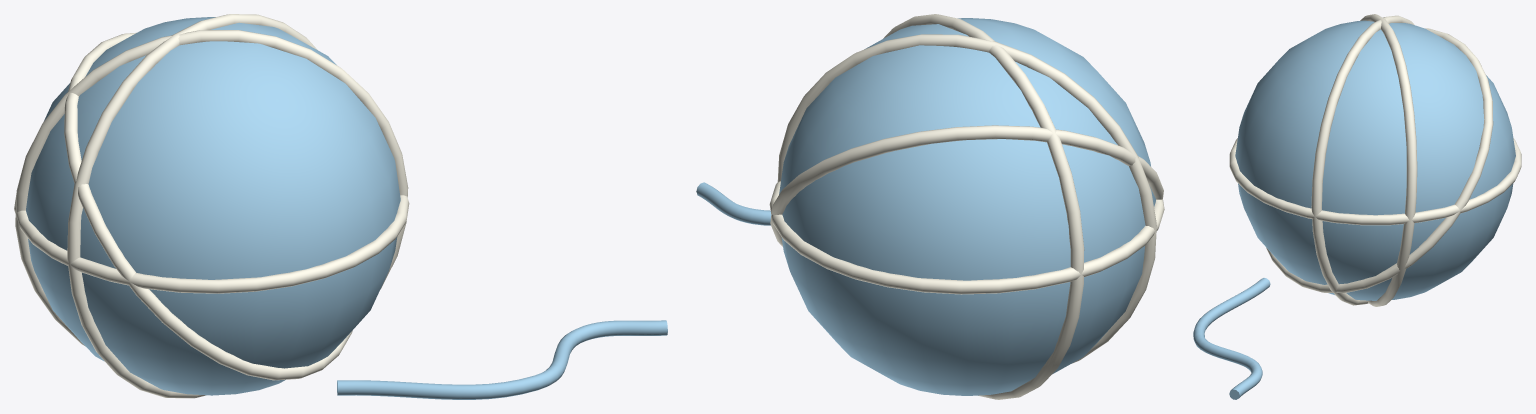
File: yarnBlue.glb
3 views of the same model, side by side, from view 1: azimuth 30°, elevation 25°; view 2: azimuth 150°, elevation 25°; view 3: azimuth 270°, elevation 25° (orthographic). The views are drawn at different scales.
Parts seen in each view (by area): view 1: Yarn ball, Yarn strand.003, Yarn strand.002, Yarn strand.001, Yarn strand, Loose yarn; view 2: Yarn ball, Yarn strand.002, Yarn strand.003, Yarn strand, Yarn strand.001, Loose yarn; view 3: Yarn ball, Yarn strand.001, Yarn strand, Yarn strand.003, Yarn strand.002, Loose yarn.
Boxes of the visible parts, box(x1,y1,x2,y2) form: Yarn ball: box(26, 17, 400, 395); Yarn strand.003: box(15, 30, 408, 346); Yarn strand.002: box(67, 14, 317, 398); Yarn strand.001: box(64, 32, 352, 380); Yarn strand: box(14, 193, 409, 293); Loose yarn: box(337, 320, 667, 399); Yarn ball: box(779, 18, 1155, 395); Yarn strand.002: box(777, 34, 1156, 363); Yarn strand.003: box(883, 14, 1084, 399); Yarn strand: box(769, 181, 1164, 294); Yarn strand.001: box(770, 125, 1163, 246); Loose yarn: box(696, 182, 771, 225); Yarn ball: box(1235, 20, 1515, 300); Yarn strand.001: box(1266, 28, 1493, 293); Yarn strand: box(1229, 138, 1521, 225); Yarn strand.003: box(1311, 15, 1414, 305); Yarn strand.002: box(1360, 14, 1417, 306); Loose yarn: box(1193, 278, 1270, 399).
Size of the model in its own units: 1.04 by 0.6643 by 0.7452.
